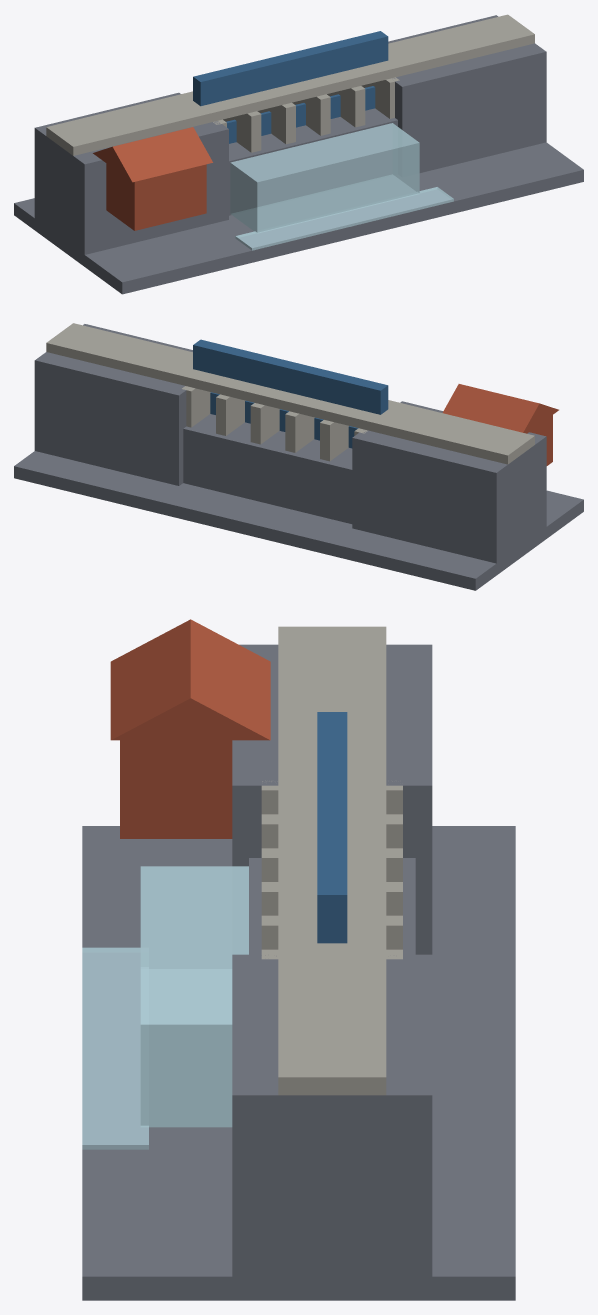
The model's file is lm_25_suoi_vang_dankia_dam_spillway.glb.
The picture shows the model from 3 angles, top to bottom: view 1: azimuth 30°, elevation 25°; view 2: azimuth 150°, elevation 25°; view 3: azimuth 270°, elevation 25°; orthographic projection. The views are drawn at different scales.
Parts seen in each view (by area): view 1: Granite_Gravity_Dam_Body, Spillway_Piers_And_Crest_Bridge, Spillway_Chute_Water, Ankroet_Powerhouse_Turret, Spillway_Radial_Gates_And_Hoist; view 2: Granite_Gravity_Dam_Body, Spillway_Piers_And_Crest_Bridge, Spillway_Radial_Gates_And_Hoist, Ankroet_Powerhouse_Turret; view 3: Granite_Gravity_Dam_Body, Spillway_Piers_And_Crest_Bridge, Spillway_Chute_Water, Ankroet_Powerhouse_Turret, Spillway_Radial_Gates_And_Hoist.
Part boxes in pixels (box(x1,y1,x2,y2)): Granite_Gravity_Dam_Body: box(14, 15, 583, 294); Spillway_Piers_And_Crest_Bridge: box(46, 14, 534, 155); Spillway_Chute_Water: box(230, 123, 453, 250); Ankroet_Powerhouse_Turret: box(93, 127, 212, 230); Spillway_Radial_Gates_And_Hoist: box(193, 31, 388, 143); Granite_Gravity_Dam_Body: box(14, 324, 583, 590); Spillway_Piers_And_Crest_Bridge: box(46, 323, 534, 464); Spillway_Radial_Gates_And_Hoist: box(193, 339, 388, 448); Ankroet_Powerhouse_Turret: box(442, 384, 558, 465); Granite_Gravity_Dam_Body: box(82, 644, 515, 1300); Spillway_Piers_And_Crest_Bridge: box(261, 626, 402, 1095); Spillway_Chute_Water: box(82, 866, 248, 1149); Ankroet_Powerhouse_Turret: box(110, 619, 270, 838); Spillway_Radial_Gates_And_Hoist: box(317, 712, 347, 943).
Size of the model in its own units: 64 by 18 by 26.
